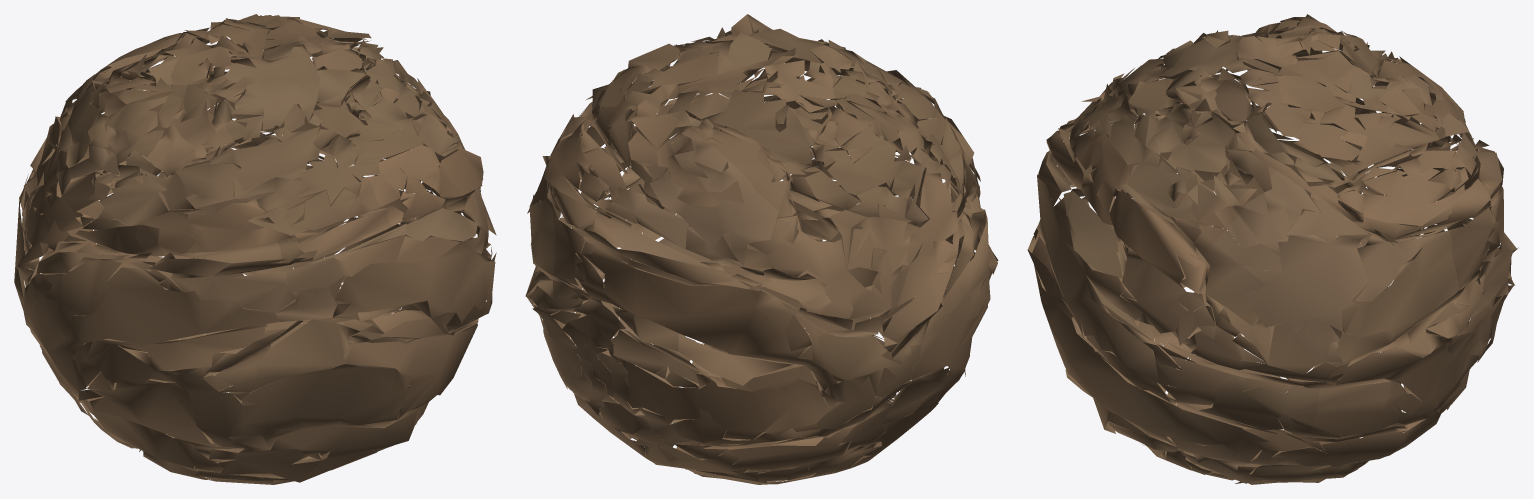
The model's file is boulder.glb.
3 views of the same model, side by side, from view 1: azimuth 30°, elevation 25°; view 2: azimuth 150°, elevation 25°; view 3: azimuth 270°, elevation 25° (orthographic). The views are drawn at different scales.
Parts seen in each view (by area): view 1: LO.001; view 2: LO.001; view 3: LO.001.
Boxes of the visible parts, bbox=[...] form: LO.001: bbox=[14, 14, 496, 484]; LO.001: bbox=[525, 14, 998, 484]; LO.001: bbox=[1027, 14, 1518, 484].
Size of the model in its own units: 0.9808 by 0.9443 by 1.
Materials: 1 (1 with a texture image).
